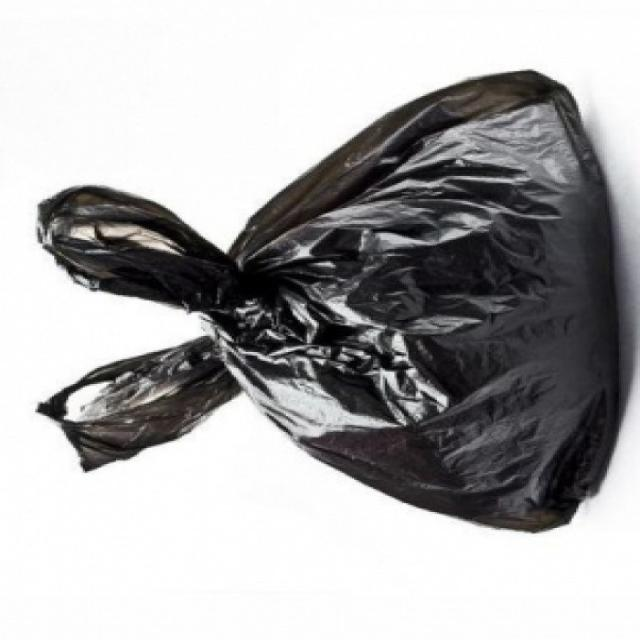sampah-detection: (35, 69, 631, 539)
